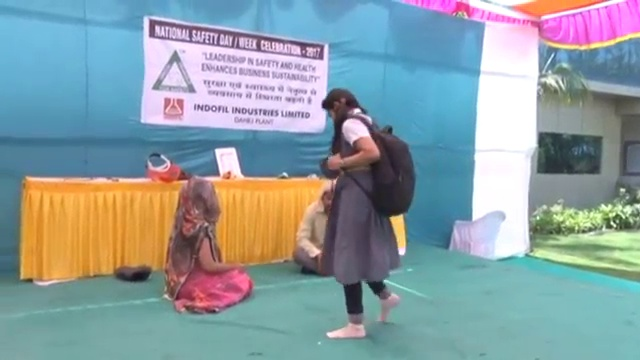helmet_off: (179, 179, 220, 222), (322, 89, 355, 121), (321, 182, 337, 215)
person: (319, 89, 416, 341), (162, 177, 254, 316), (293, 181, 337, 274)
